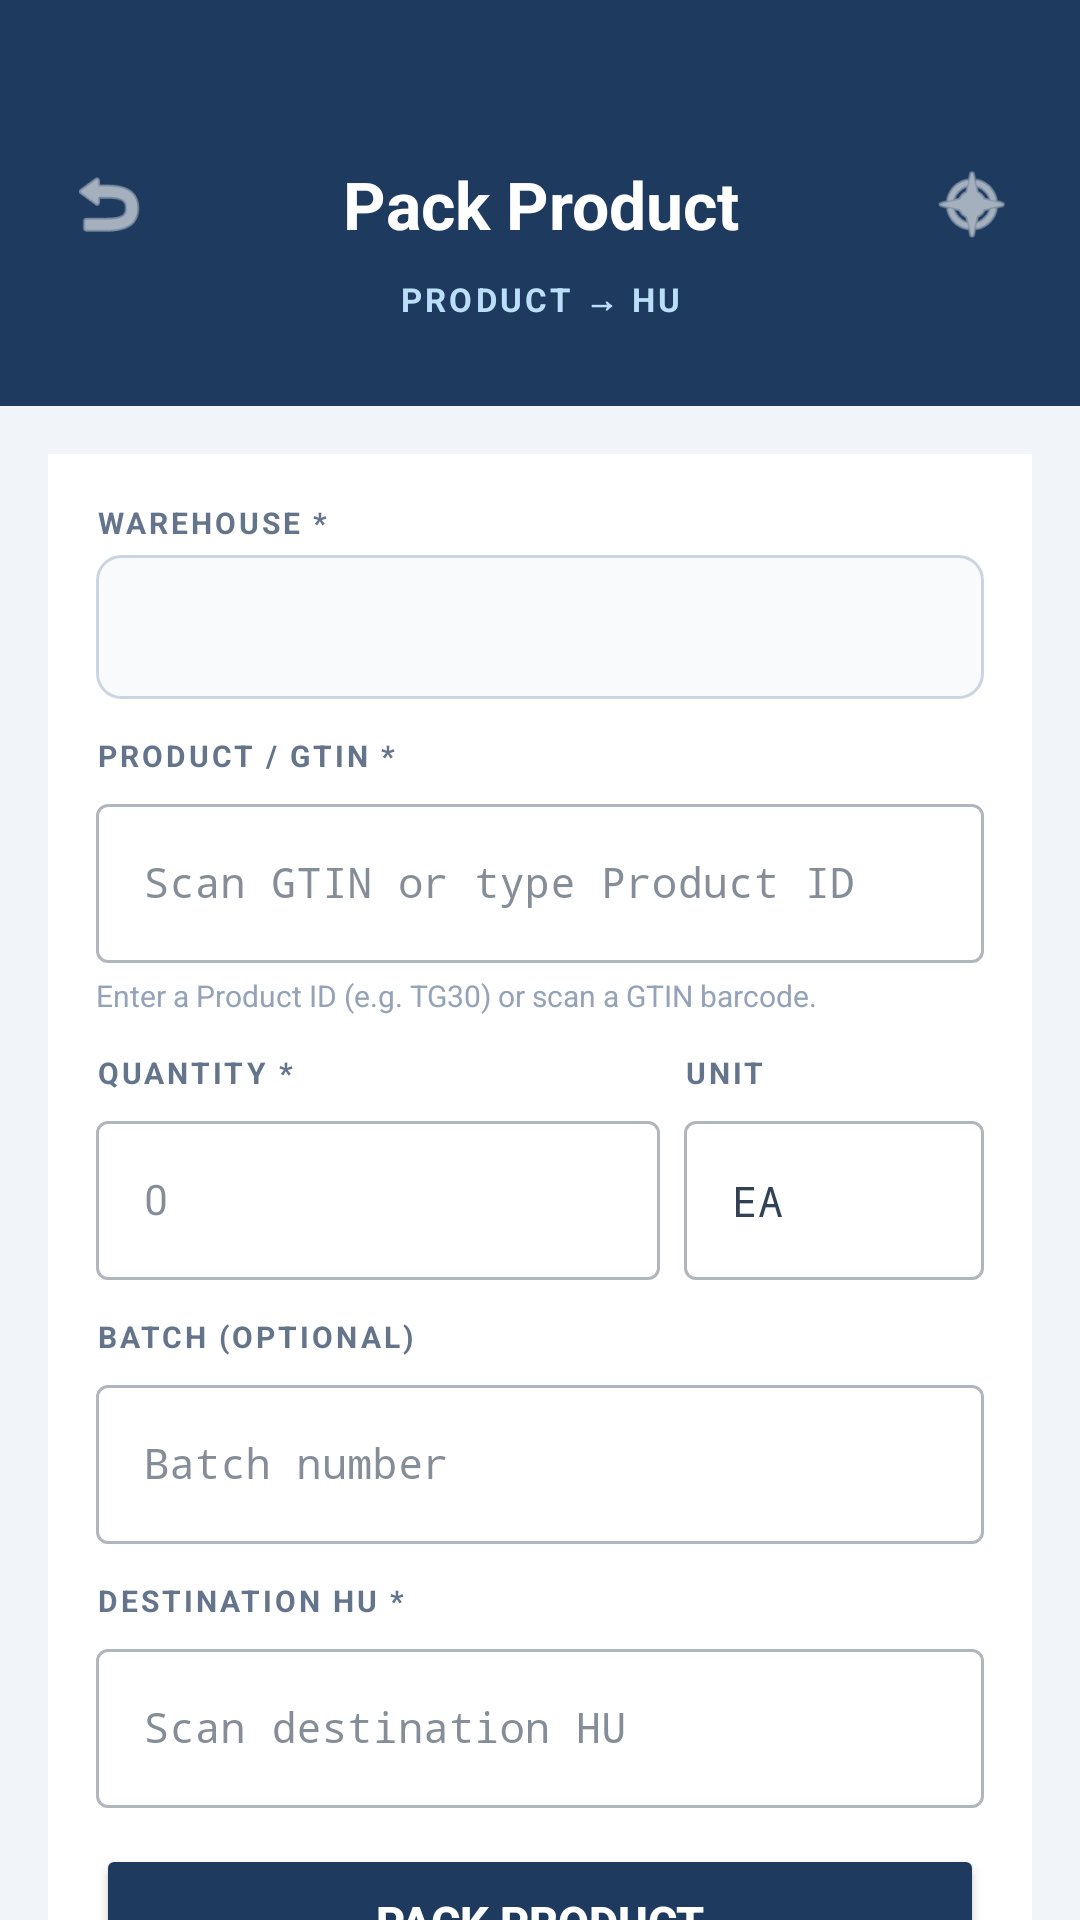

Icons on this 1080×1920 Android screen, each with the point to tap as (x=x, y=y):
compass: (x=972, y=204)
revert: (x=109, y=204)
